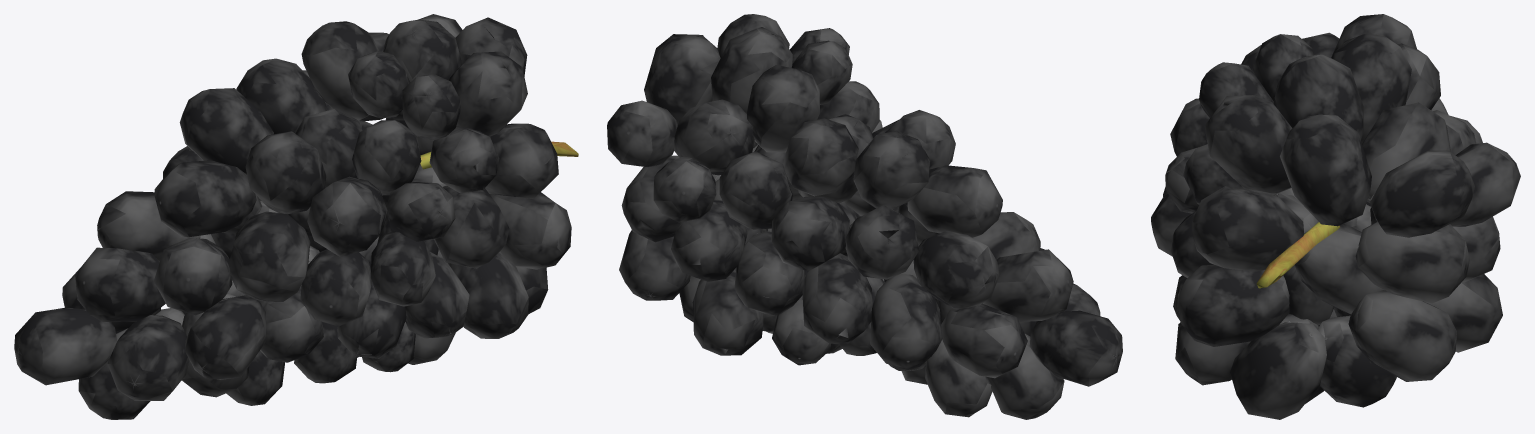
Rendered from Grape.fbx.
The picture shows the model from 3 angles, left to right: view 1: azimuth 30°, elevation 25°; view 2: azimuth 150°, elevation 25°; view 3: azimuth 270°, elevation 25°; orthographic projection. The views are drawn at different scales.
Visible parts, largest first — view 1: nurbsToPoly62; view 2: nurbsToPoly62; view 3: nurbsToPoly62.
Boxes of the visible parts, x1,y1,x2,y2 form: nurbsToPoly62: [14, 14, 578, 419]; nurbsToPoly62: [607, 14, 1122, 419]; nurbsToPoly62: [1151, 14, 1520, 419].
Size of the model in its own units: 27 by 16.53 by 15.2.
